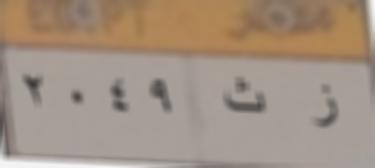0: (69, 84, 89, 116)
2: (20, 68, 47, 115)
4: (106, 74, 131, 118)
9: (146, 75, 175, 123)
thaa: (219, 73, 272, 125)
zay: (308, 80, 341, 140)
